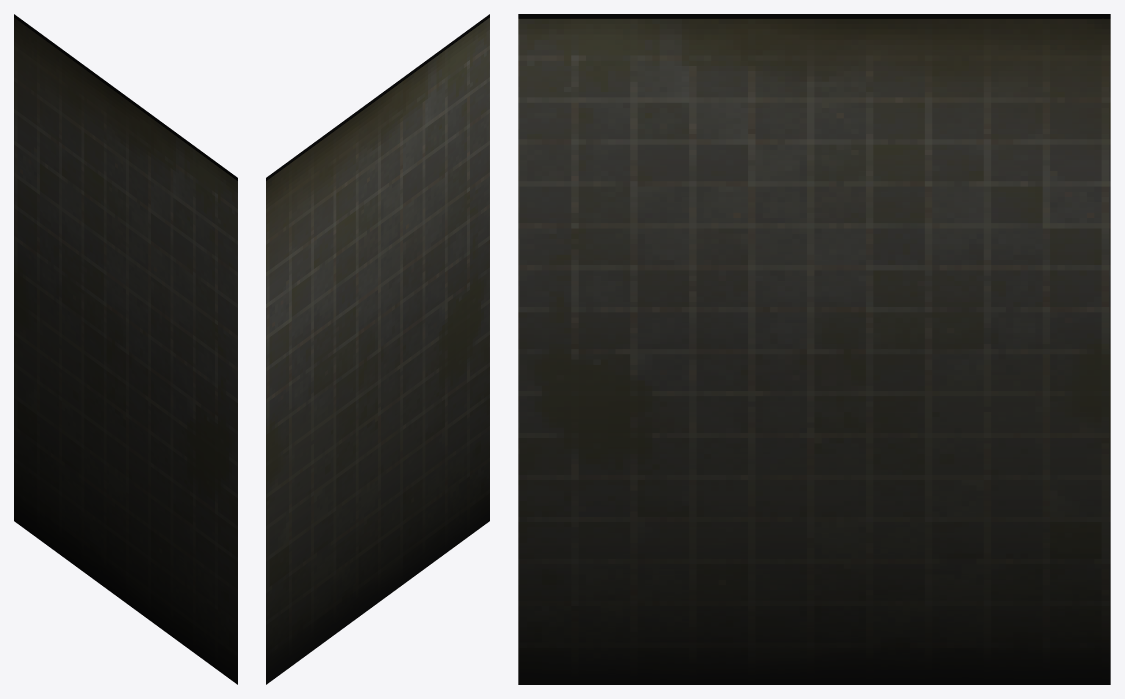
Rendered from wall_grime2.fbx.
3 renders of one model, left to right at view 1: azimuth 30°, elevation 25°; view 2: azimuth 150°, elevation 25°; view 3: azimuth 270°, elevation 25°, orthographic. The views are drawn at different scales.
Parts seen in each view (by area): view 1: wall_grime2; view 2: wall_grime2; view 3: wall_grime2.
Part boxes in pixels (x1=…): wall_grime2: x1=14, y1=14, x2=237, y2=684; wall_grime2: x1=266, y1=14, x2=489, y2=684; wall_grime2: x1=518, y1=14, x2=1110, y2=684.
Bounding box in the file's own units: 0 × 2.5 × 2.
Materials: 1 (1 with a texture image).
